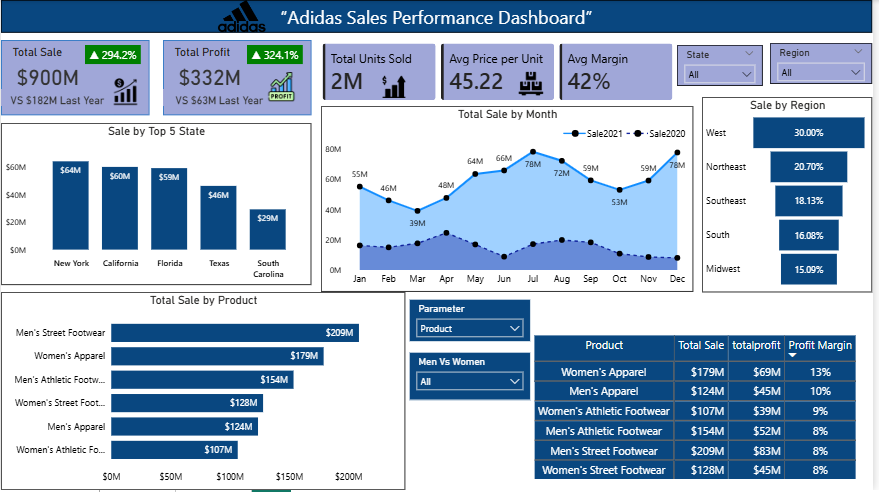

What the dashboard file says about the page in this screenshot:
{"tool":"powerbi","page":{"name":"Page 1","canvas":[1280,720],"ordinal":0},"visuals":[{"type":"columnChart","title":"Sale by Top 5 State","fields":{"Category":["Adidas Sales.State"],"Y":["Adidas Sales.totalsale"]},"box":[0,180.7,455.5,238],"z":0},{"type":"cardVisual","fields":{"Data":["Sum(Adidas Sales.Units Sold)","Avg(Adidas Sales.Price per Unit)","Avg(Adidas Sales.Operating Margin)"]},"box":[455.5,47,548.1,117.6],"z":1000},{"type":"lineChart","title":"Total Sale by Month","fields":{"Category":["DateTable.month"],"Y":["Adidas Sales.Sale2021","Adidas Sales.Sale2020"]},"box":[470.2,155.8,546.6,273.3],"z":2000},{"type":"textbox","box":[0,0,1279.8,48.5],"z":3000},{"type":"shape","box":[0,58.8,218.1,110.5],"z":3003,"group":"g2"},{"type":"shape","box":[238,58.8,218.1,110.5],"z":3003,"group":"g1"},{"type":"advanceCardE03760C5AB684758B56AA29F9E6C257B","title":"CY Sale","fields":{"mainMeasure":["Adidas Sales.Sale2021"]},"box":[0,65,113.1,77.9],"z":3253,"group":"g2"},{"type":"advanceCardE03760C5AB684758B56AA29F9E6C257B","title":"CY Profit","fields":{"mainMeasure":["Adidas Sales.Profit2021"]},"box":[250,66.3,113.5,77.7],"z":3253,"group":"g1"},{"type":"advanceCardE03760C5AB684758B56AA29F9E6C257B","fields":{"mainMeasure":["Adidas Sales.2020"]},"box":[0,130.5,165.8,25.4],"z":3503,"group":"g2"},{"type":"advanceCardE03760C5AB684758B56AA29F9E6C257B","fields":{"mainMeasure":["Adidas Sales.LY Profit"]},"box":[238,130.5,165.8,25.4],"z":3503,"group":"g1"},{"type":"barChart","fields":{"Category":["Adidas Sales.Product"],"Y":["Adidas Sales.totalsale"]},"box":[0,429.1,593.6,290.9],"z":4000},{"type":"slicer","fields":{"Values":["Parameter.Parameter"]},"box":[599.5,439.3,179.3,63.2],"z":5000},{"type":"shape","box":[124,66.3,82.2,28.4],"z":5502,"group":"g2"},{"type":"shape","box":[362,66.3,82.2,28.4],"z":5502,"group":"g1"},{"type":"pivotTable","fields":{"Rows":["Adidas Sales.Product"],"Values":["Adidas Sales.totalsale","Adidas Sales.totalprofit","StandardDeviation(Adidas Sales.Operating Margin)"]},"box":[778.8,487.8,501.1,232.2],"z":6000},{"type":"image","box":[146.4,114.1,71.7,40.3],"z":6503,"group":"g2"},{"type":"group","id":"g1","title":"Group 3","box":[238,58.8,217.5,110.2],"z":6505,"group":"g3"},{"type":"funnel","title":"Sale by Region","fields":{"Category":["Adidas Sales.Region"],"Y":["Adidas Sales.totalsale"]},"box":[1030,142.5,249.8,286.5],"z":7000},{"type":"image","box":[296.8,0,114.6,47],"z":8000},{"type":"slicer","fields":{"Values":["Adidas Sales.State"]},"box":[993.3,66.1,126.4,60.2],"z":9000},{"type":"slicer","fields":{"Values":["Adidas Sales.Region"]},"box":[1130,63.2,149.9,60.2],"z":10000},{"type":"image","box":[555.4,110.2,44.1,35.3],"z":11000},{"type":"image","box":[734.7,104.3,88.2,36.7],"z":12000},{"type":"group","id":"g2","title":"Group 3","box":[0,58.8,218.1,110.5],"z":13000},{"type":"group","id":"g3","title":"Group 1","box":[238,58.8,227.7,110.2],"z":14000},{"type":"slicer","fields":{"Values":["Adidas Sales.Men Vs Women"]},"box":[599.5,517.2,179.3,70.5],"z":15000},{"type":"image","box":[402.5,115,63.2,42.6],"z":15500,"group":"g3"}]}

Visuals, with their boxes in screenshot pixels (x1, y1, x2, y2), scaled from the page's 1280x720 canvas onto the 879x492 screenshot:
"Sale by Top 5 State" columnChart: <bbox>0, 123, 313, 286</bbox>
cardVisual - Sum(Adidas Sales.Units Sold) x Avg(Adidas Sales.Price per Unit): <bbox>313, 32, 689, 112</bbox>
"Total Sale by Month" lineChart: <bbox>323, 106, 698, 293</bbox>
textbox: <bbox>0, 0, 878, 33</bbox>
shape: <bbox>0, 40, 150, 116</bbox>
shape: <bbox>163, 40, 313, 116</bbox>
"CY Sale" advanceCardE03760C5AB684758B56AA29F9E6C257B: <bbox>0, 44, 78, 98</bbox>
"CY Profit" advanceCardE03760C5AB684758B56AA29F9E6C257B: <bbox>172, 45, 250, 98</bbox>
advanceCardE03760C5AB684758B56AA29F9E6C257B - Adidas Sales.2020: <bbox>0, 89, 114, 107</bbox>
advanceCardE03760C5AB684758B56AA29F9E6C257B - Adidas Sales.LY Profit: <bbox>163, 89, 277, 107</bbox>
barChart - Adidas Sales.Product x Adidas Sales.totalsale: <bbox>0, 293, 408, 491</bbox>
slicer - Parameter.Parameter: <bbox>412, 300, 535, 343</bbox>
shape: <bbox>85, 45, 142, 65</bbox>
shape: <bbox>249, 45, 305, 65</bbox>
pivotTable - Adidas Sales.Product x Adidas Sales.totalsale: <bbox>535, 333, 878, 491</bbox>
image: <bbox>101, 78, 150, 106</bbox>
"Group 3" group: <bbox>163, 40, 313, 115</bbox>
"Sale by Region" funnel: <bbox>707, 97, 878, 293</bbox>
image: <bbox>204, 0, 283, 32</bbox>
slicer - Adidas Sales.State: <bbox>682, 45, 769, 86</bbox>
slicer - Adidas Sales.Region: <bbox>776, 43, 878, 84</bbox>
image: <bbox>381, 75, 412, 99</bbox>
image: <bbox>505, 71, 565, 96</bbox>
"Group 3" group: <bbox>0, 40, 150, 116</bbox>
"Group 1" group: <bbox>163, 40, 320, 115</bbox>
slicer - Adidas Sales.Men Vs Women: <bbox>412, 353, 535, 402</bbox>
image: <bbox>276, 79, 320, 108</bbox>
